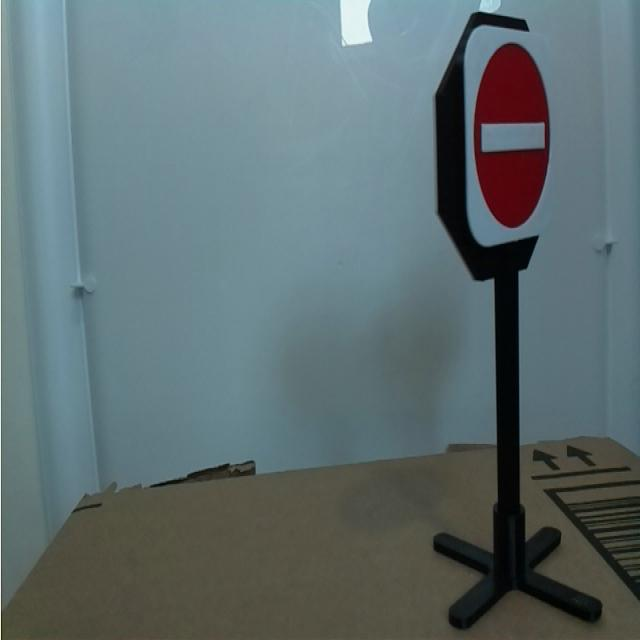sign_noentry: (465, 24, 566, 247)
